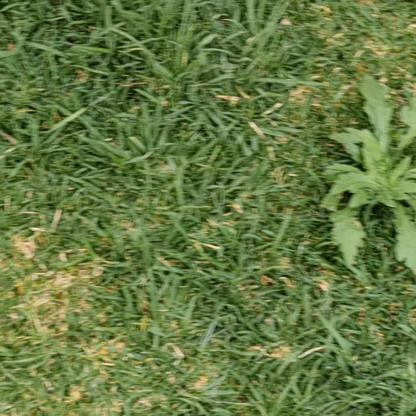Weeds: (323, 75, 415, 287)
